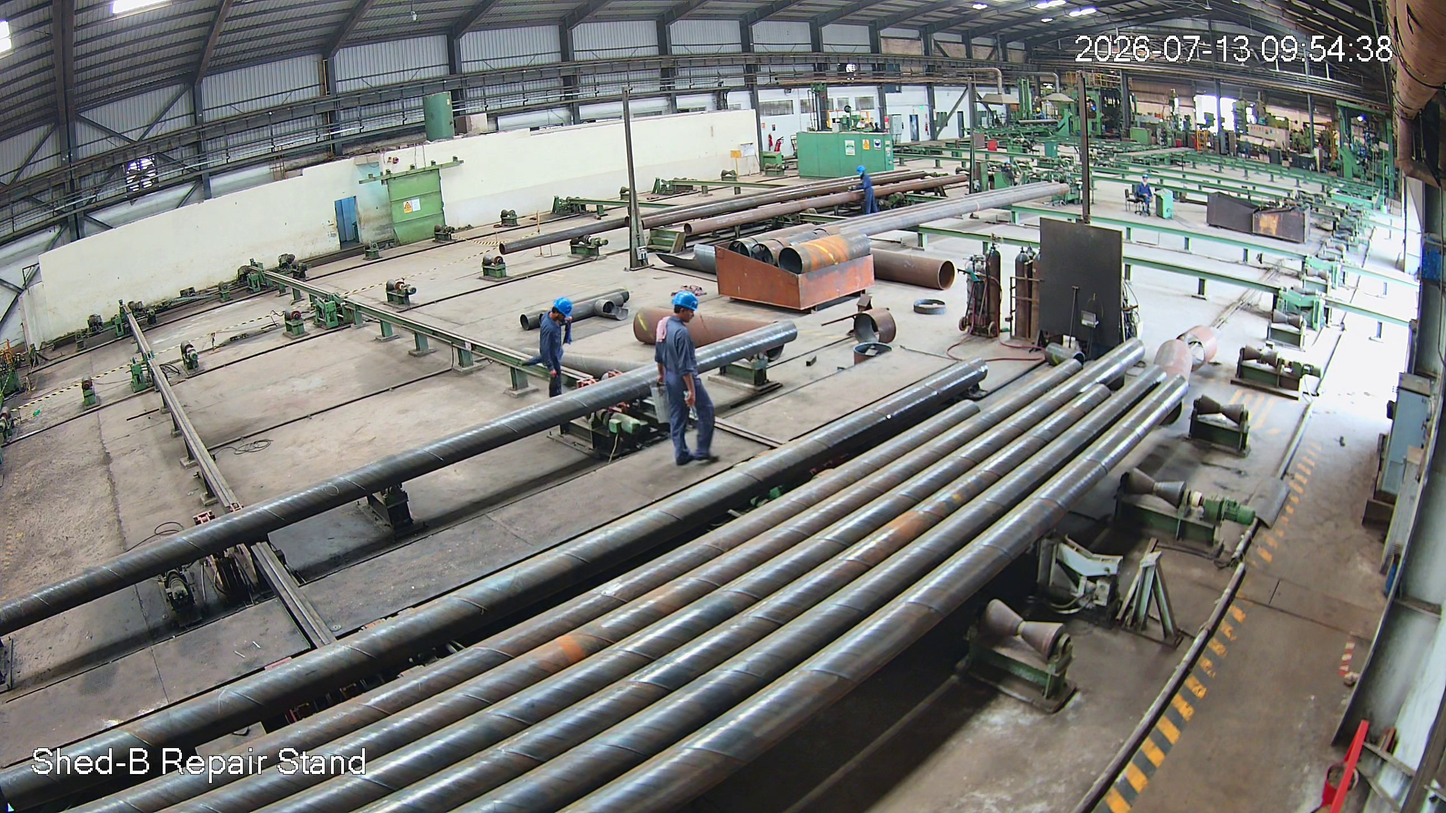Helmet: (667, 284, 708, 333), (549, 293, 574, 332)
Person: (646, 288, 728, 461), (530, 299, 577, 395)
